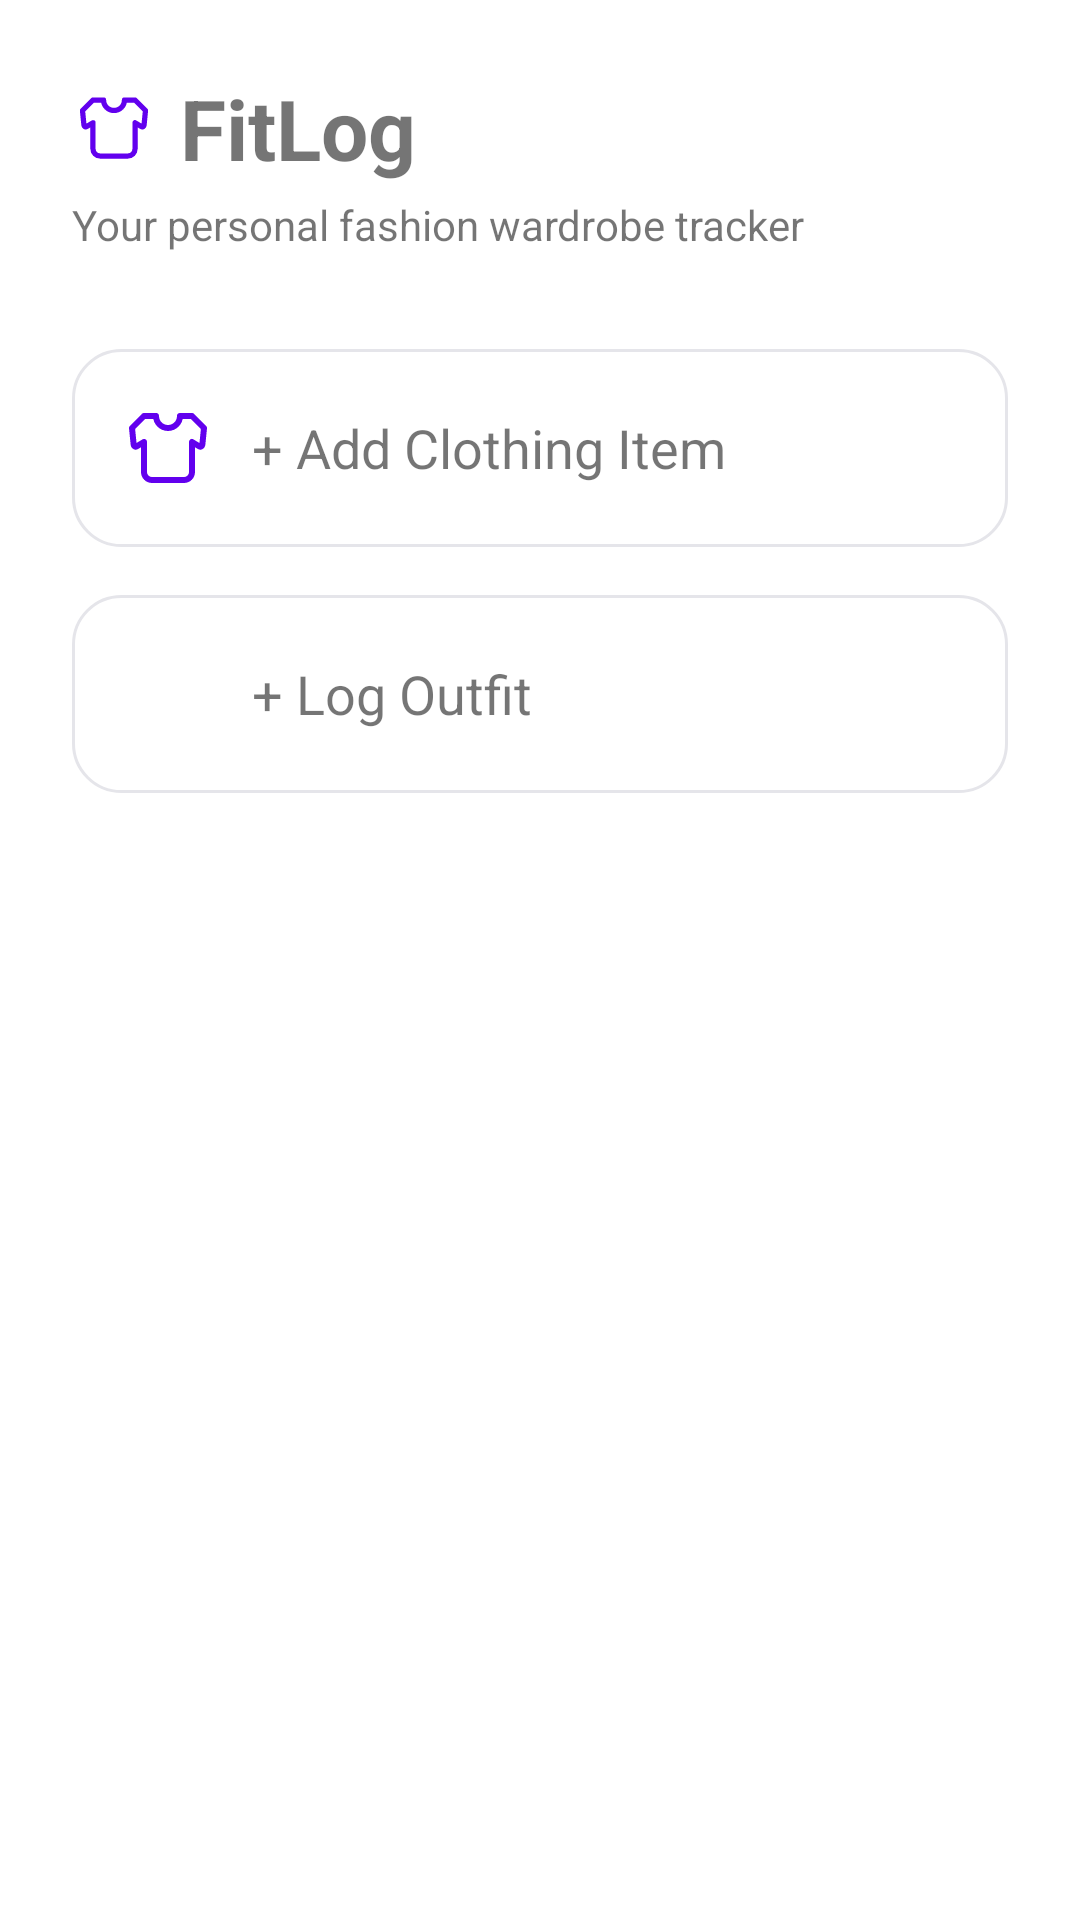

Icons on this 1080px×1920px Android screen, each with its box as (x1, y1, x2, y2):
shirt: (80, 97, 148, 159), (129, 413, 207, 483)
